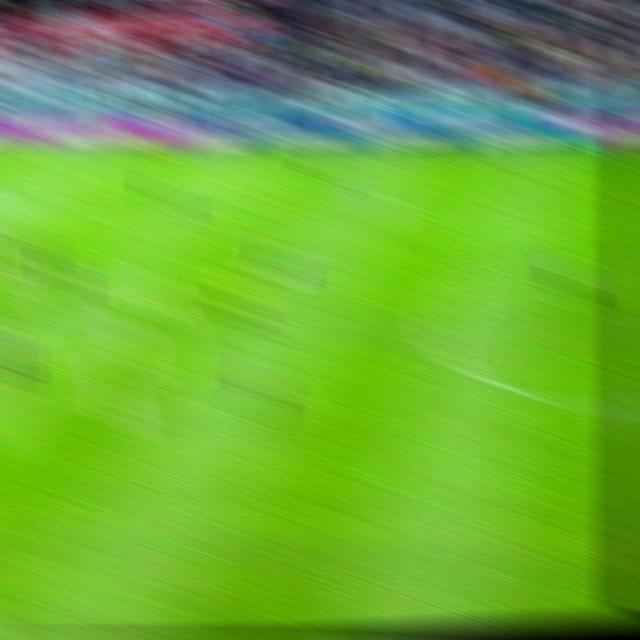bigarea_top_inner: (45, 189, 85, 218)
halfcircle_bottom: (610, 388, 640, 429)
halfcircle_top: (615, 250, 640, 279)
